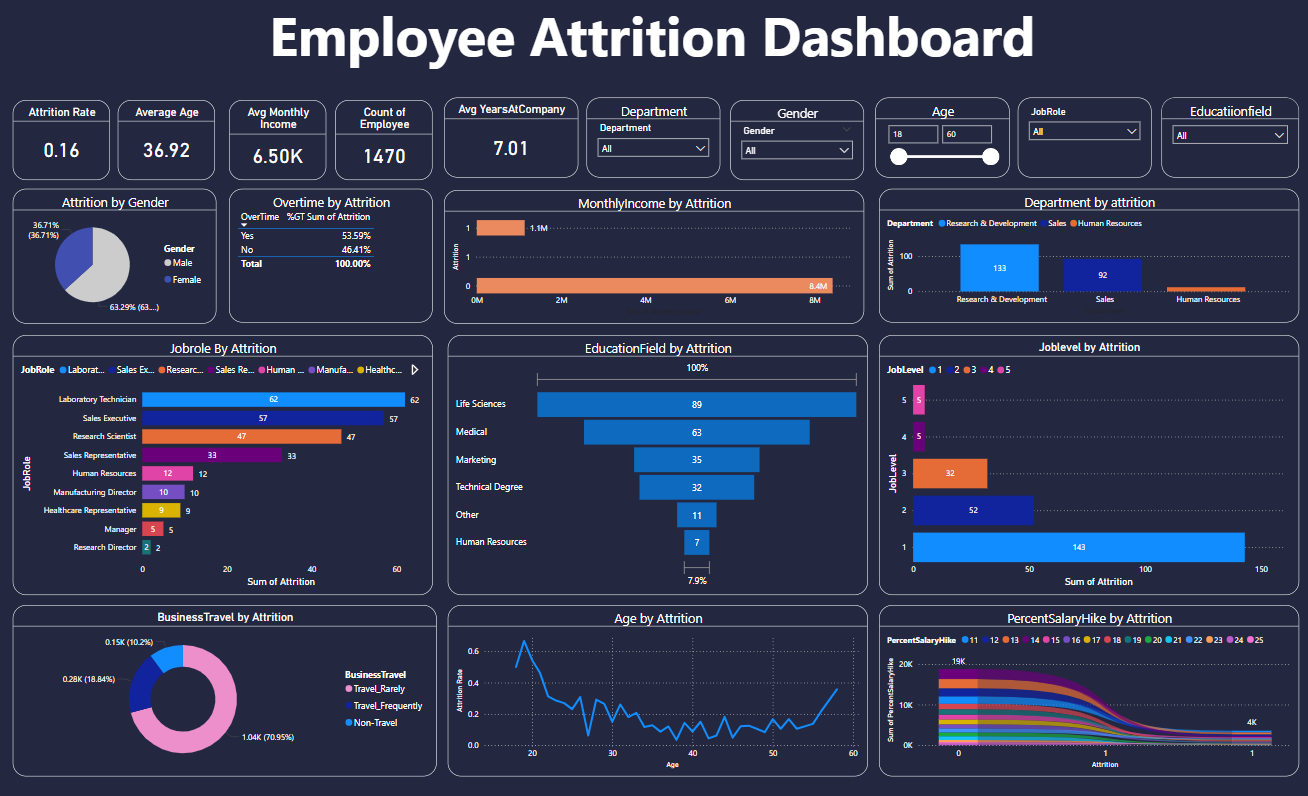

The dashboard page shown, as its layout file describes it:
{"tool":"powerbi","page":{"name":"Dashboard","canvas":[1950,1200],"ordinal":2},"visuals":[{"type":"textbox","box":[9.3,0,1926.2,126.6],"z":0},{"type":"card","title":"Attrition Rate","fields":{"Values":["attrition_f_dataset.Attrition Rate"]},"box":[20.1,155.6,145,119.1],"z":1000},{"type":"card","title":"Average Age","fields":{"Values":["Avg(attrition_f_dataset.Age)"]},"box":[176.4,155.6,145,119.1],"z":2000},{"type":"card","title":"Count of Employee","fields":{"Values":["CountNonNull(attrition_f_dataset.EmployeeNumber)"]},"box":[500.3,155.6,145.2,119.1],"z":3000},{"type":"card","title":"Avg Monthly Income","fields":{"Values":["Avg(attrition_f_dataset.MonthlyIncome)"]},"box":[342.1,155.6,145.2,119.1],"z":4000},{"type":"card","title":"Avg YearsAtCompany","fields":{"Values":["Avg(attrition_f_dataset.YearsAtCompany)"]},"box":[662.2,151.9,200,119.1],"z":5000},{"type":"lineChart","title":"Age by Attrition","fields":{"Y":["attrition_f_dataset.Attrition Rate"],"Category":["attrition_f_dataset.Age"]},"box":[668.1,908.2,625.3,255],"z":6000},{"type":"barChart","title":"Jobrole By Attrition","fields":{"Category":["attrition_f_dataset.JobRole"],"Y":["Sum(attrition_f_dataset.Attrition)"],"Series":["attrition_f_dataset.JobRole"]},"box":[20.5,506.2,625.3,387.1],"z":7000},{"type":"columnChart","title":"Department by attrition","fields":{"Category":["attrition_f_dataset.Department"],"Y":["Sum(attrition_f_dataset.Attrition)"],"Series":["attrition_f_dataset.Department"]},"box":[1310.2,288.5,625.3,199.1],"z":8000},{"type":"ribbonChart","title":"PercentSalaryHike by Attrition ","fields":{"Y":["Sum(attrition_f_dataset.PercentSalaryHike)"],"Category":["attrition_f_dataset.Attrition"],"Series":["attrition_f_dataset.PercentSalaryHike"]},"box":[1310.2,908.2,625.3,255],"z":9000},{"type":"tableEx","title":"Overtime by Attrition","fields":{"Values":["attrition_f_dataset.OverTime","Sum(attrition_f_dataset.Attrition)"]},"box":[342.4,288.5,303.4,199.1],"z":10000},{"type":"funnel","title":" EducationField by Attrition","fields":{"Category":["attrition_f_dataset.EducationField"],"Y":["Sum(attrition_f_dataset.Attrition)"]},"box":[668.1,506.2,625.3,387.1],"z":11000},{"type":"barChart","title":"Joblevel by Attrition","fields":{"Y":["Sum(attrition_f_dataset.Attrition)"],"Category":["attrition_f_dataset.JobLevel"],"Series":["attrition_f_dataset.JobLevel"]},"box":[1310.2,506.2,625.3,387.1],"z":12000},{"type":"clusteredBarChart","title":"MonthlyIncome by Attrition","fields":{"Category":["attrition_f_dataset.Attrition"],"Y":["Sum(attrition_f_dataset.MonthlyIncome)"]},"box":[662.5,290.3,625.3,199.1],"z":13000},{"type":"pieChart","title":"Attrition by Gender","fields":{"Category":["attrition_f_dataset.Gender"],"Y":["Divide(Sum(attrition_f_dataset.Attrition), ScopedEval(Sum(attrition_f_dataset.Attrition), []))"]},"box":[20.5,288.5,303.4,201],"z":14000},{"type":"donutChart","title":"BusinessTravel by Attrition","fields":{"Category":["attrition_f_dataset.BusinessTravel"],"Y":["CountNonNull(attrition_f_dataset.Attrition)"]},"box":[20.5,908.2,630.9,255],"z":15000},{"type":"slicer","fields":{"Values":["attrition_f_dataset.JobRole"]},"box":[1516.4,151.9,199.1,119.1],"z":16000},{"type":"slicer","title":"Educatiionfield","fields":{"Values":["attrition_f_dataset.EducationField"]},"box":[1730.8,152.6,204.7,119.1],"z":17000},{"type":"slicer","title":"Age","fields":{"Values":["attrition_f_dataset.Age"]},"box":[1304.2,151.9,200,119.1],"z":18000},{"type":"slicer","title":"Department","fields":{"Values":["attrition_f_dataset.Department"]},"box":[874.3,151.9,199.1,119.1],"z":19000},{"type":"slicer","title":"Gender","fields":{"Values":["attrition_f_dataset.Gender"]},"box":[1088.3,155.6,199.1,119.1],"z":20000}]}

Visuals, with their boxes in screenshot pixels (x1, y1, x2, y2), scaled from the page's 1950x1200 canvas onto the 1308x796 screenshot:
textbox: pyautogui.locateOnScreen(6, 0, 1298, 84)
"Attrition Rate" card: pyautogui.locateOnScreen(13, 103, 111, 182)
"Average Age" card: pyautogui.locateOnScreen(118, 103, 216, 182)
"Count of Employee" card: pyautogui.locateOnScreen(336, 103, 433, 182)
"Avg Monthly Income" card: pyautogui.locateOnScreen(229, 103, 327, 182)
"Avg YearsAtCompany" card: pyautogui.locateOnScreen(444, 101, 578, 180)
"Age by Attrition" lineChart: pyautogui.locateOnScreen(448, 602, 868, 772)
"Jobrole By Attrition" barChart: pyautogui.locateOnScreen(14, 336, 433, 593)
"Department by attrition" columnChart: pyautogui.locateOnScreen(879, 191, 1298, 323)
"PercentSalaryHike by Attrition " ribbonChart: pyautogui.locateOnScreen(879, 602, 1298, 772)
"Overtime by Attrition" tableEx: pyautogui.locateOnScreen(230, 191, 433, 323)
" EducationField by Attrition" funnel: pyautogui.locateOnScreen(448, 336, 868, 593)
"Joblevel by Attrition" barChart: pyautogui.locateOnScreen(879, 336, 1298, 593)
"MonthlyIncome by Attrition" clusteredBarChart: pyautogui.locateOnScreen(444, 193, 864, 325)
"Attrition by Gender" pieChart: pyautogui.locateOnScreen(14, 191, 217, 325)
"BusinessTravel by Attrition" donutChart: pyautogui.locateOnScreen(14, 602, 437, 772)
slicer - attrition_f_dataset.JobRole: pyautogui.locateOnScreen(1017, 101, 1151, 180)
"Educatiionfield" slicer: pyautogui.locateOnScreen(1161, 101, 1298, 180)
"Age" slicer: pyautogui.locateOnScreen(875, 101, 1009, 180)
"Department" slicer: pyautogui.locateOnScreen(586, 101, 720, 180)
"Gender" slicer: pyautogui.locateOnScreen(730, 103, 864, 182)
